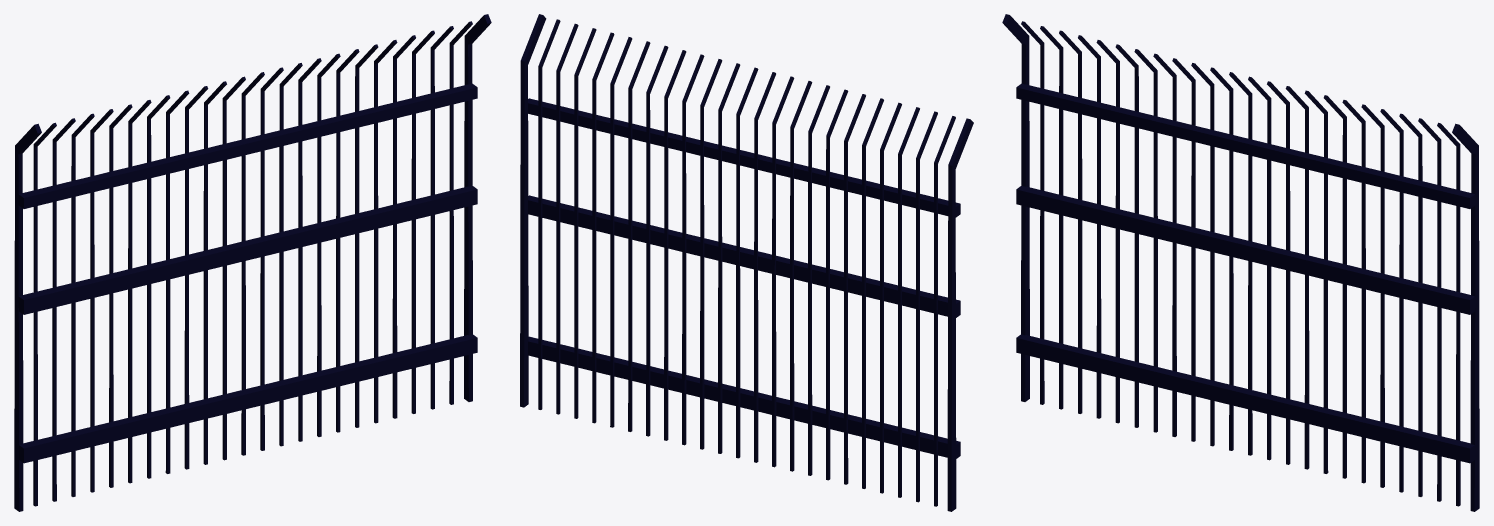
File: Reja.fbx
The picture shows the model from 3 angles, left to right: view 1: azimuth 30°, elevation 25°; view 2: azimuth 150°, elevation 25°; view 3: azimuth 330°, elevation 25°; orthographic projection. The views are drawn at different scales.
Visible parts, largest first — view 1: Reja; view 2: Reja; view 3: Reja.
Part boxes in pixels (left/top/right/bottom): Reja: left=14, top=14, right=491, bottom=511; Reja: left=520, top=14, right=973, bottom=511; Reja: left=1002, top=14, right=1479, bottom=511.
Size of the model in its own units: 240 by 201 by 21.52.
